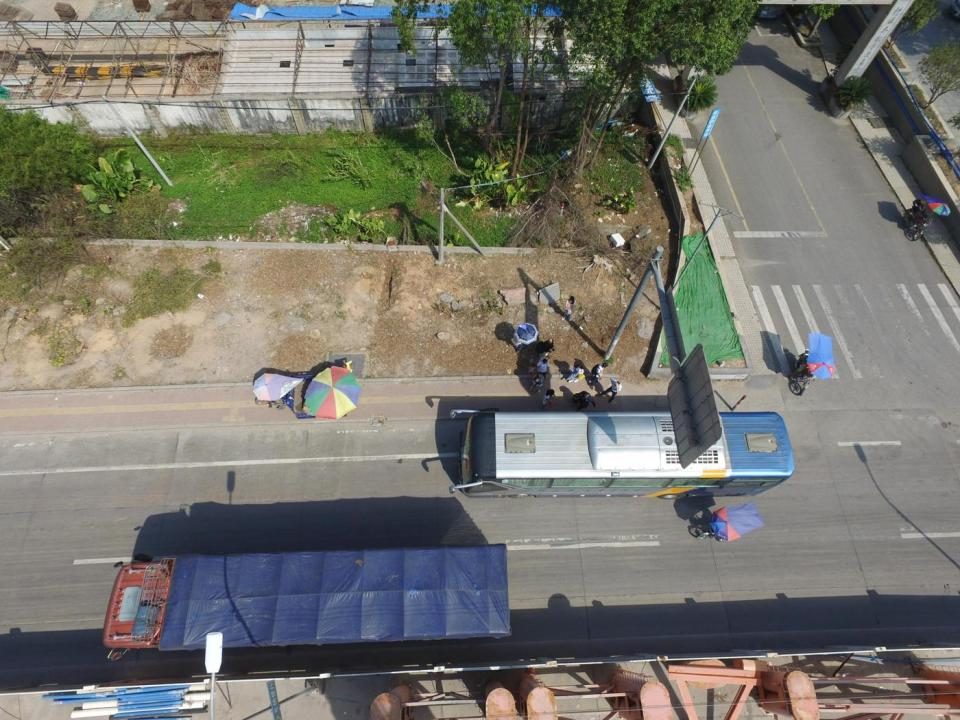bus: (450, 408, 794, 500)
truck: (104, 544, 512, 660)
